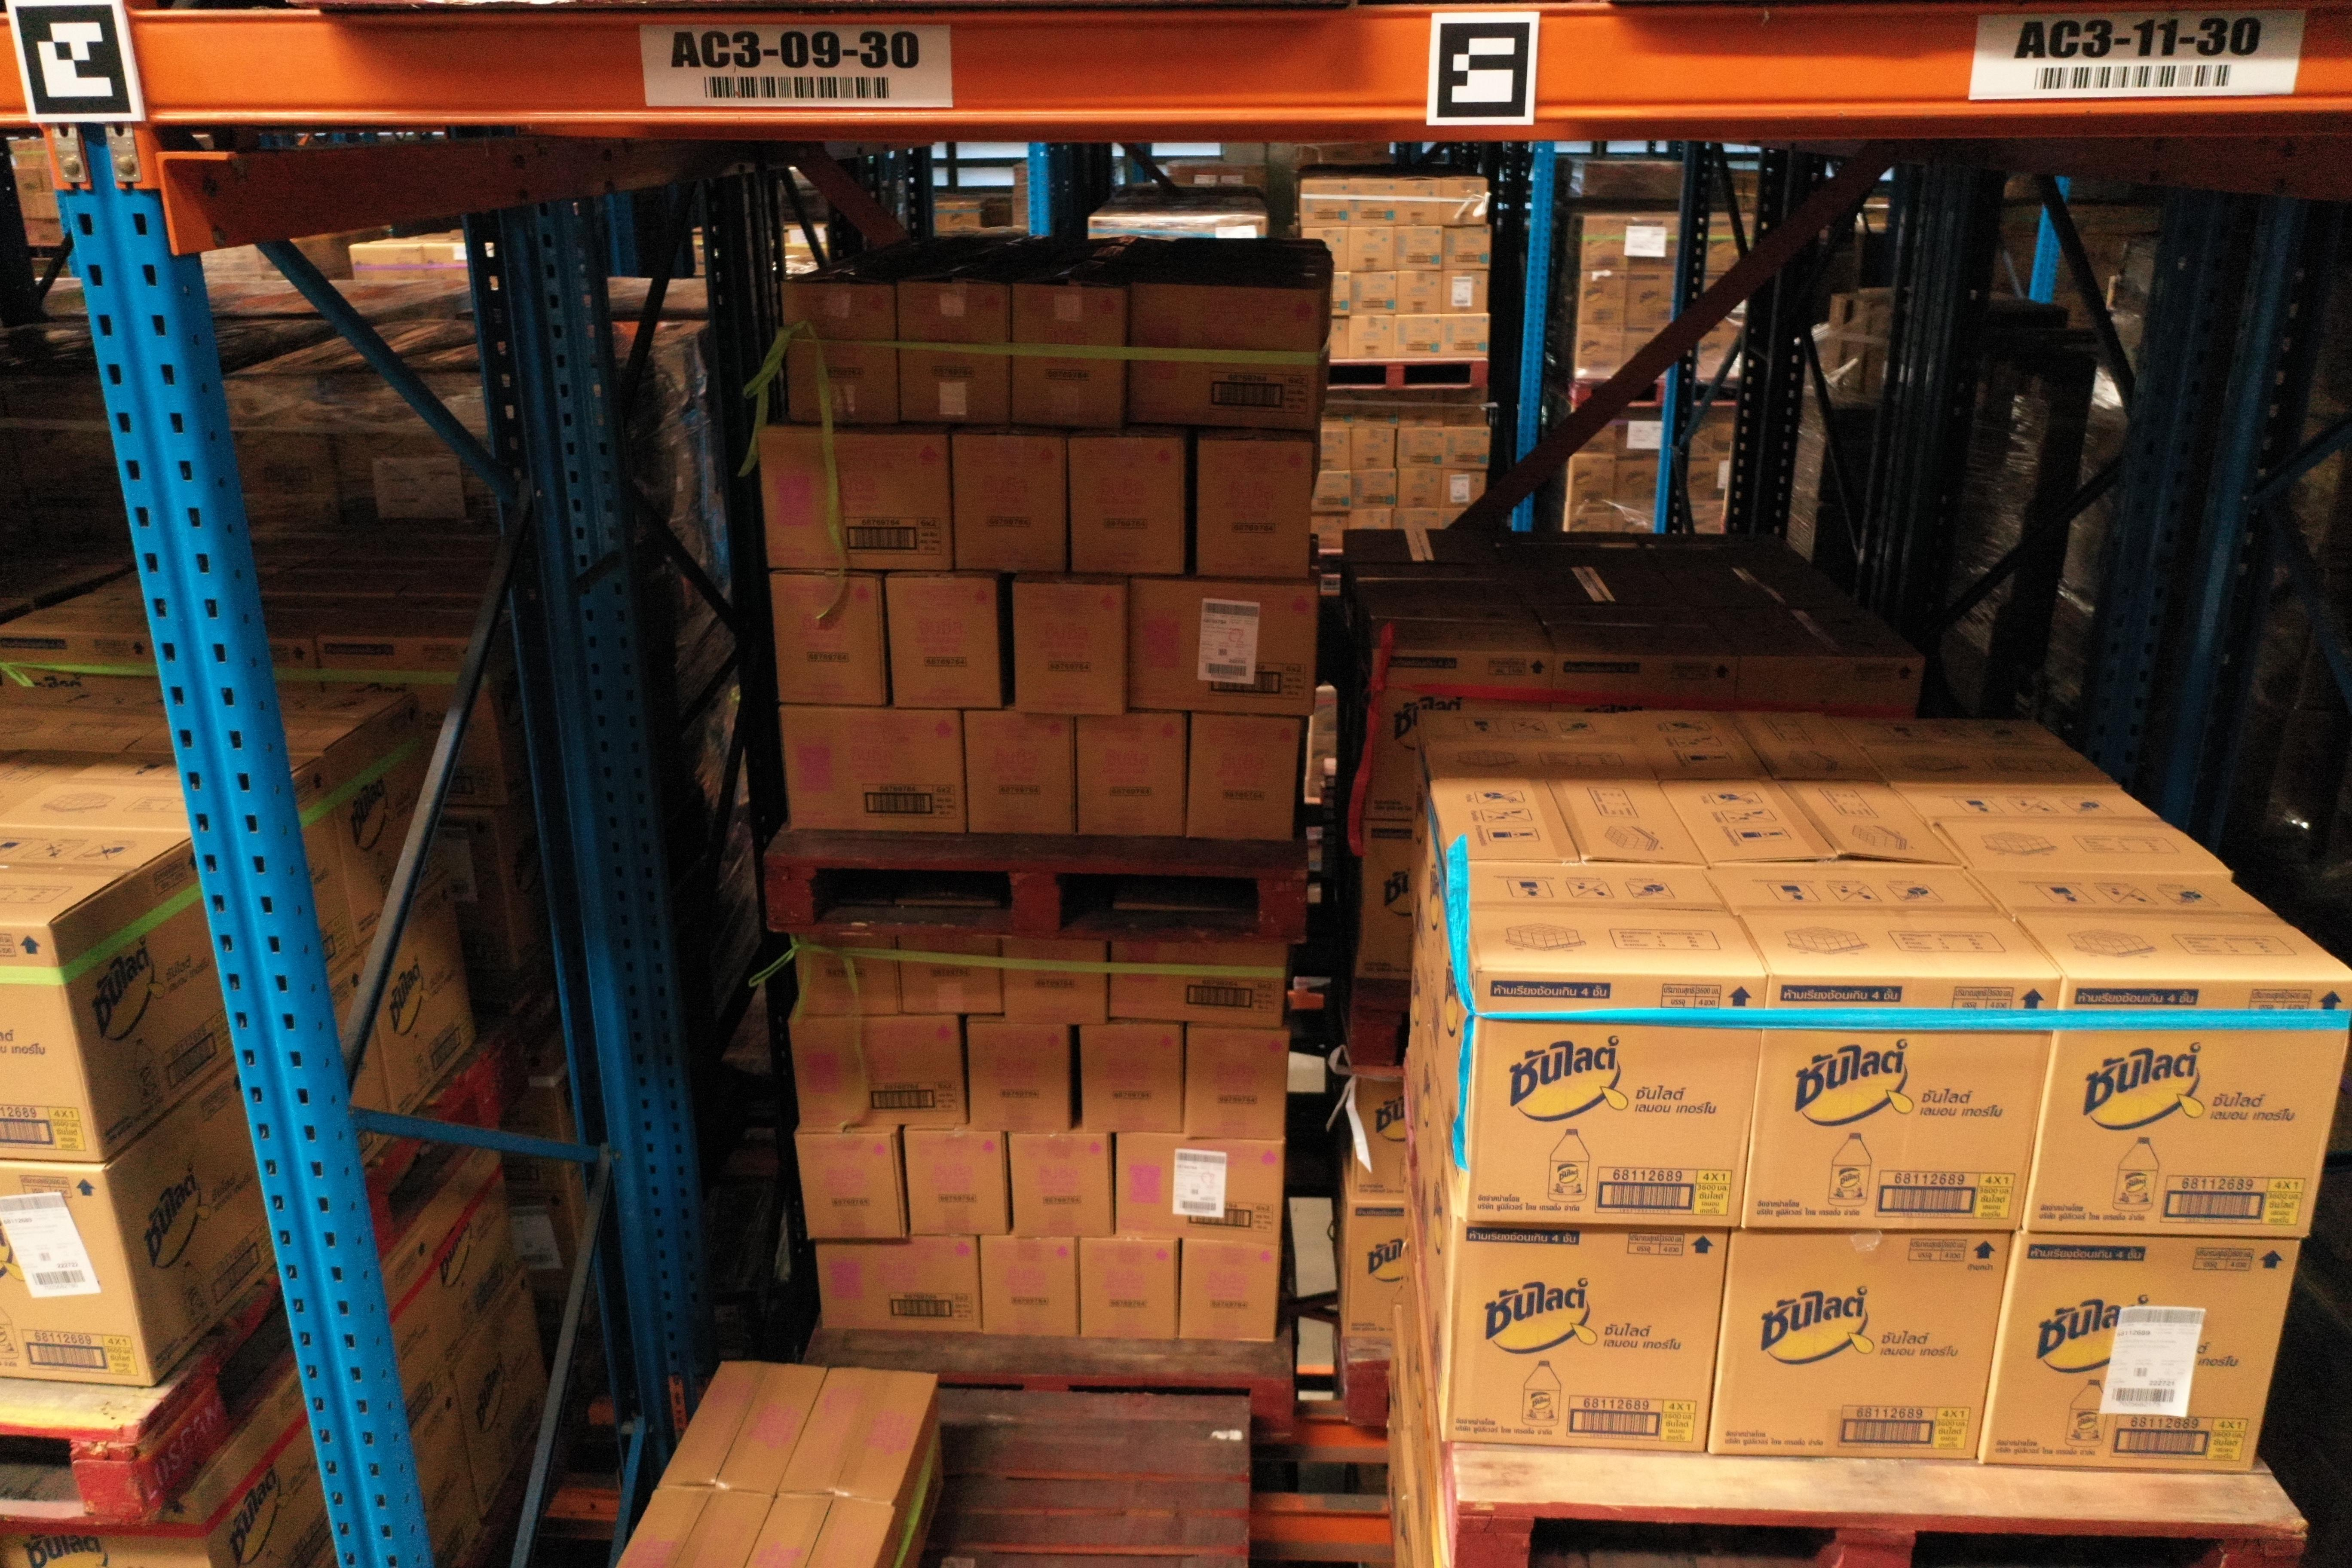-: (2025, 980, 2352, 1241), (1741, 978, 2061, 1234), (1466, 969, 1771, 1234), (1979, 1234, 2301, 1479), (1708, 1227, 2014, 1463), (1444, 1221, 1732, 1454), (0, 1160, 154, 1386), (0, 924, 105, 1162)
box: (756, 425, 954, 574), (1132, 285, 1321, 436), (1129, 576, 1319, 719), (780, 705, 968, 833), (789, 1011, 973, 1132), (1115, 1132, 1283, 1246), (892, 282, 1011, 430), (1193, 439, 1316, 581), (950, 430, 1071, 574), (784, 276, 901, 423), (814, 1234, 978, 1337), (1066, 434, 1185, 576), (884, 576, 1006, 710), (1015, 283, 1129, 427), (770, 574, 889, 709), (1011, 581, 1123, 716), (1186, 710, 1300, 842), (961, 709, 1074, 836), (1109, 948, 1288, 1027), (1073, 714, 1186, 836), (1181, 1025, 1290, 1141), (793, 1134, 906, 1241), (901, 1129, 1008, 1237), (964, 1024, 1071, 1132), (1076, 1232, 1179, 1344), (1176, 1235, 1281, 1344), (1076, 1025, 1179, 1134), (978, 1234, 1081, 1340), (1010, 1132, 1111, 1237), (1001, 941, 1109, 1027), (800, 934, 903, 1018), (896, 941, 1004, 1017)
